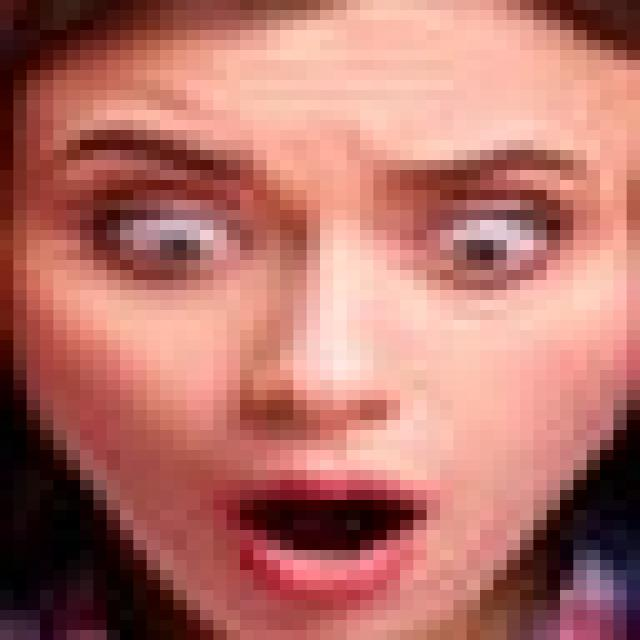Anxiety: (0, 0, 627, 630)
